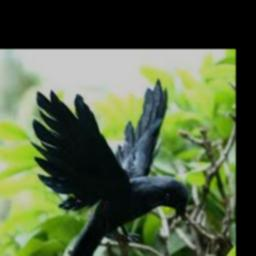Crow: (32, 77, 189, 256)
